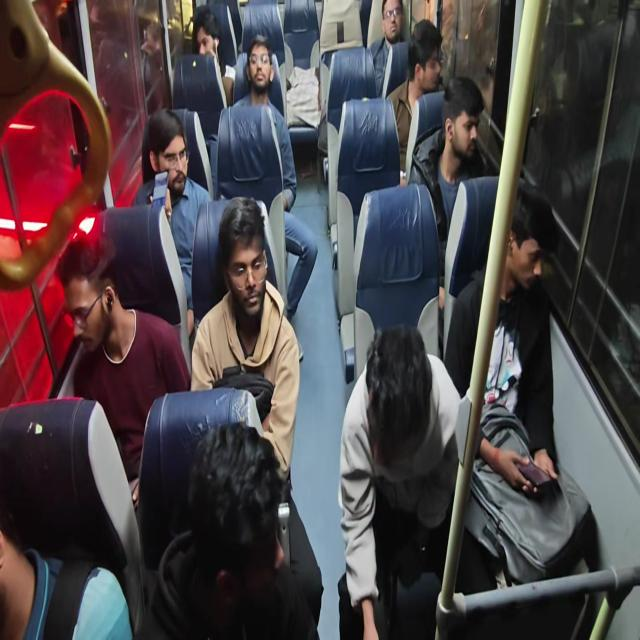person: (190, 196, 324, 632), (337, 322, 462, 638), (140, 421, 321, 638), (55, 228, 191, 511), (443, 182, 560, 489), (0, 398, 134, 638), (231, 34, 318, 322), (407, 74, 486, 314), (133, 107, 212, 334), (0, 524, 133, 639), (386, 18, 443, 177), (191, 5, 235, 107), (367, 0, 408, 98), (140, 20, 172, 112)
